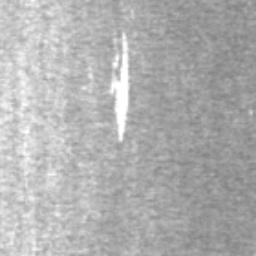White rust: (108, 31, 131, 143)
